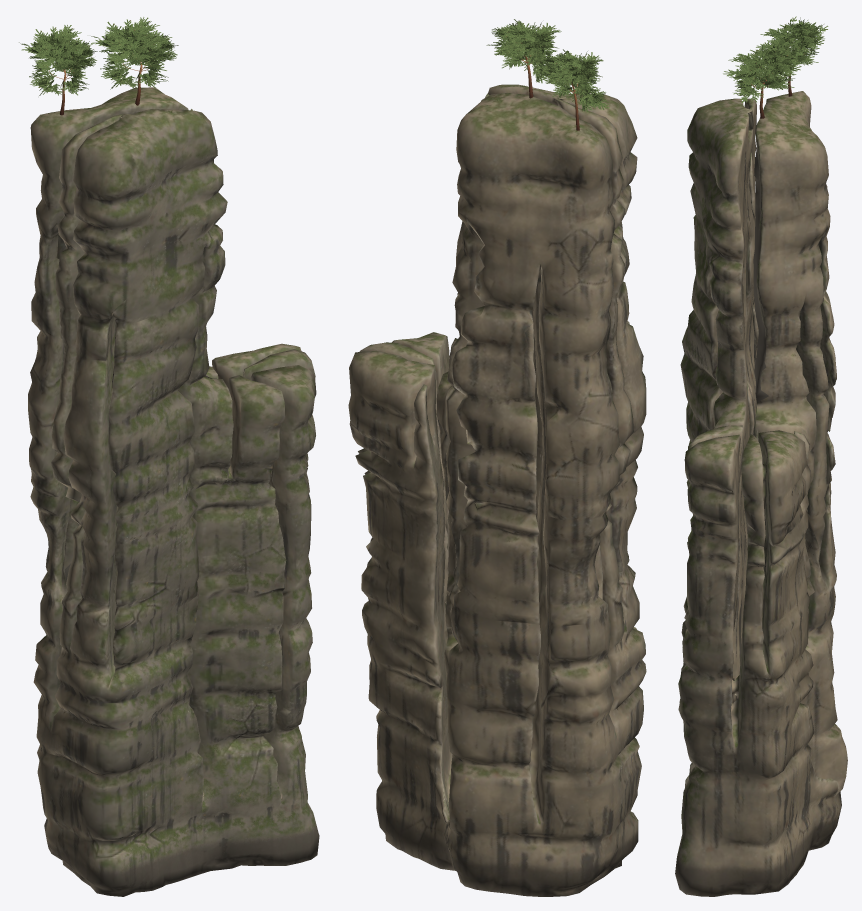
Rendered from skala_masiv_2veze.glb.
3 renders of one model, left to right at view 1: azimuth 30°, elevation 25°; view 2: azimuth 150°, elevation 25°; view 3: azimuth 270°, elevation 25°, orthographic. The views are drawn at different scales.
Visible parts, largest first — view 1: skala_masiv_2veze, borovice_mlada, borovice_mlada.001; view 2: skala_masiv_2veze, borovice_mlada, borovice_mlada.001; view 3: skala_masiv_2veze, borovice_mlada, borovice_mlada.001.
Part boxes in pixels (bbox=[...]): skala_masiv_2veze: bbox=[28, 87, 319, 896]; borovice_mlada: bbox=[91, 17, 178, 105]; borovice_mlada.001: bbox=[19, 25, 97, 115]; skala_masiv_2veze: bbox=[348, 84, 646, 896]; borovice_mlada: bbox=[486, 19, 561, 98]; borovice_mlada.001: bbox=[538, 49, 609, 130]; skala_masiv_2veze: bbox=[675, 91, 847, 896]; borovice_mlada: bbox=[723, 41, 805, 118]; borovice_mlada.001: bbox=[756, 16, 828, 96].
Size of the model in its own units: 10.64 by 31.79 by 6.36.
9 materials, 9 textured.
